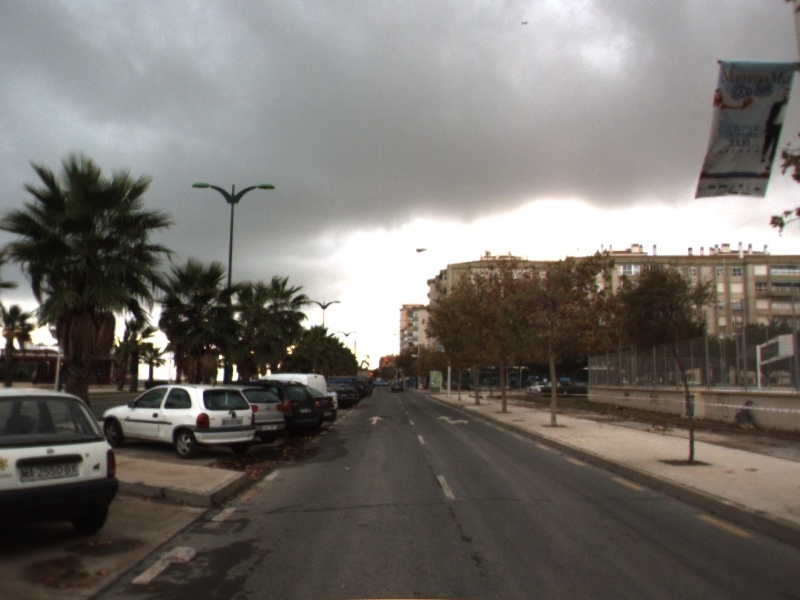STRAIGHT: (366, 414, 386, 426)
STRAIGHT_RIGHT: (436, 413, 471, 426)
